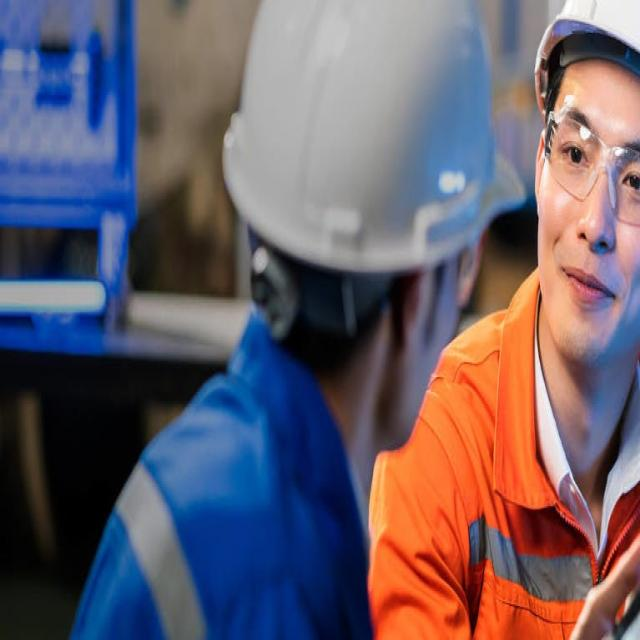goggles: (537, 106, 640, 232)
helmet: (525, 2, 640, 118)
vest: (364, 258, 639, 640)
